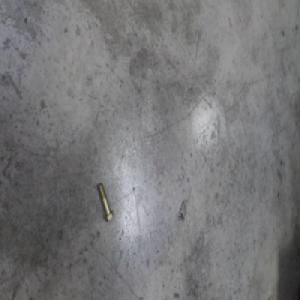Bolt: (95, 182, 113, 224)
